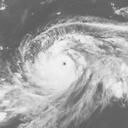cyclone: (35, 47, 86, 90)
